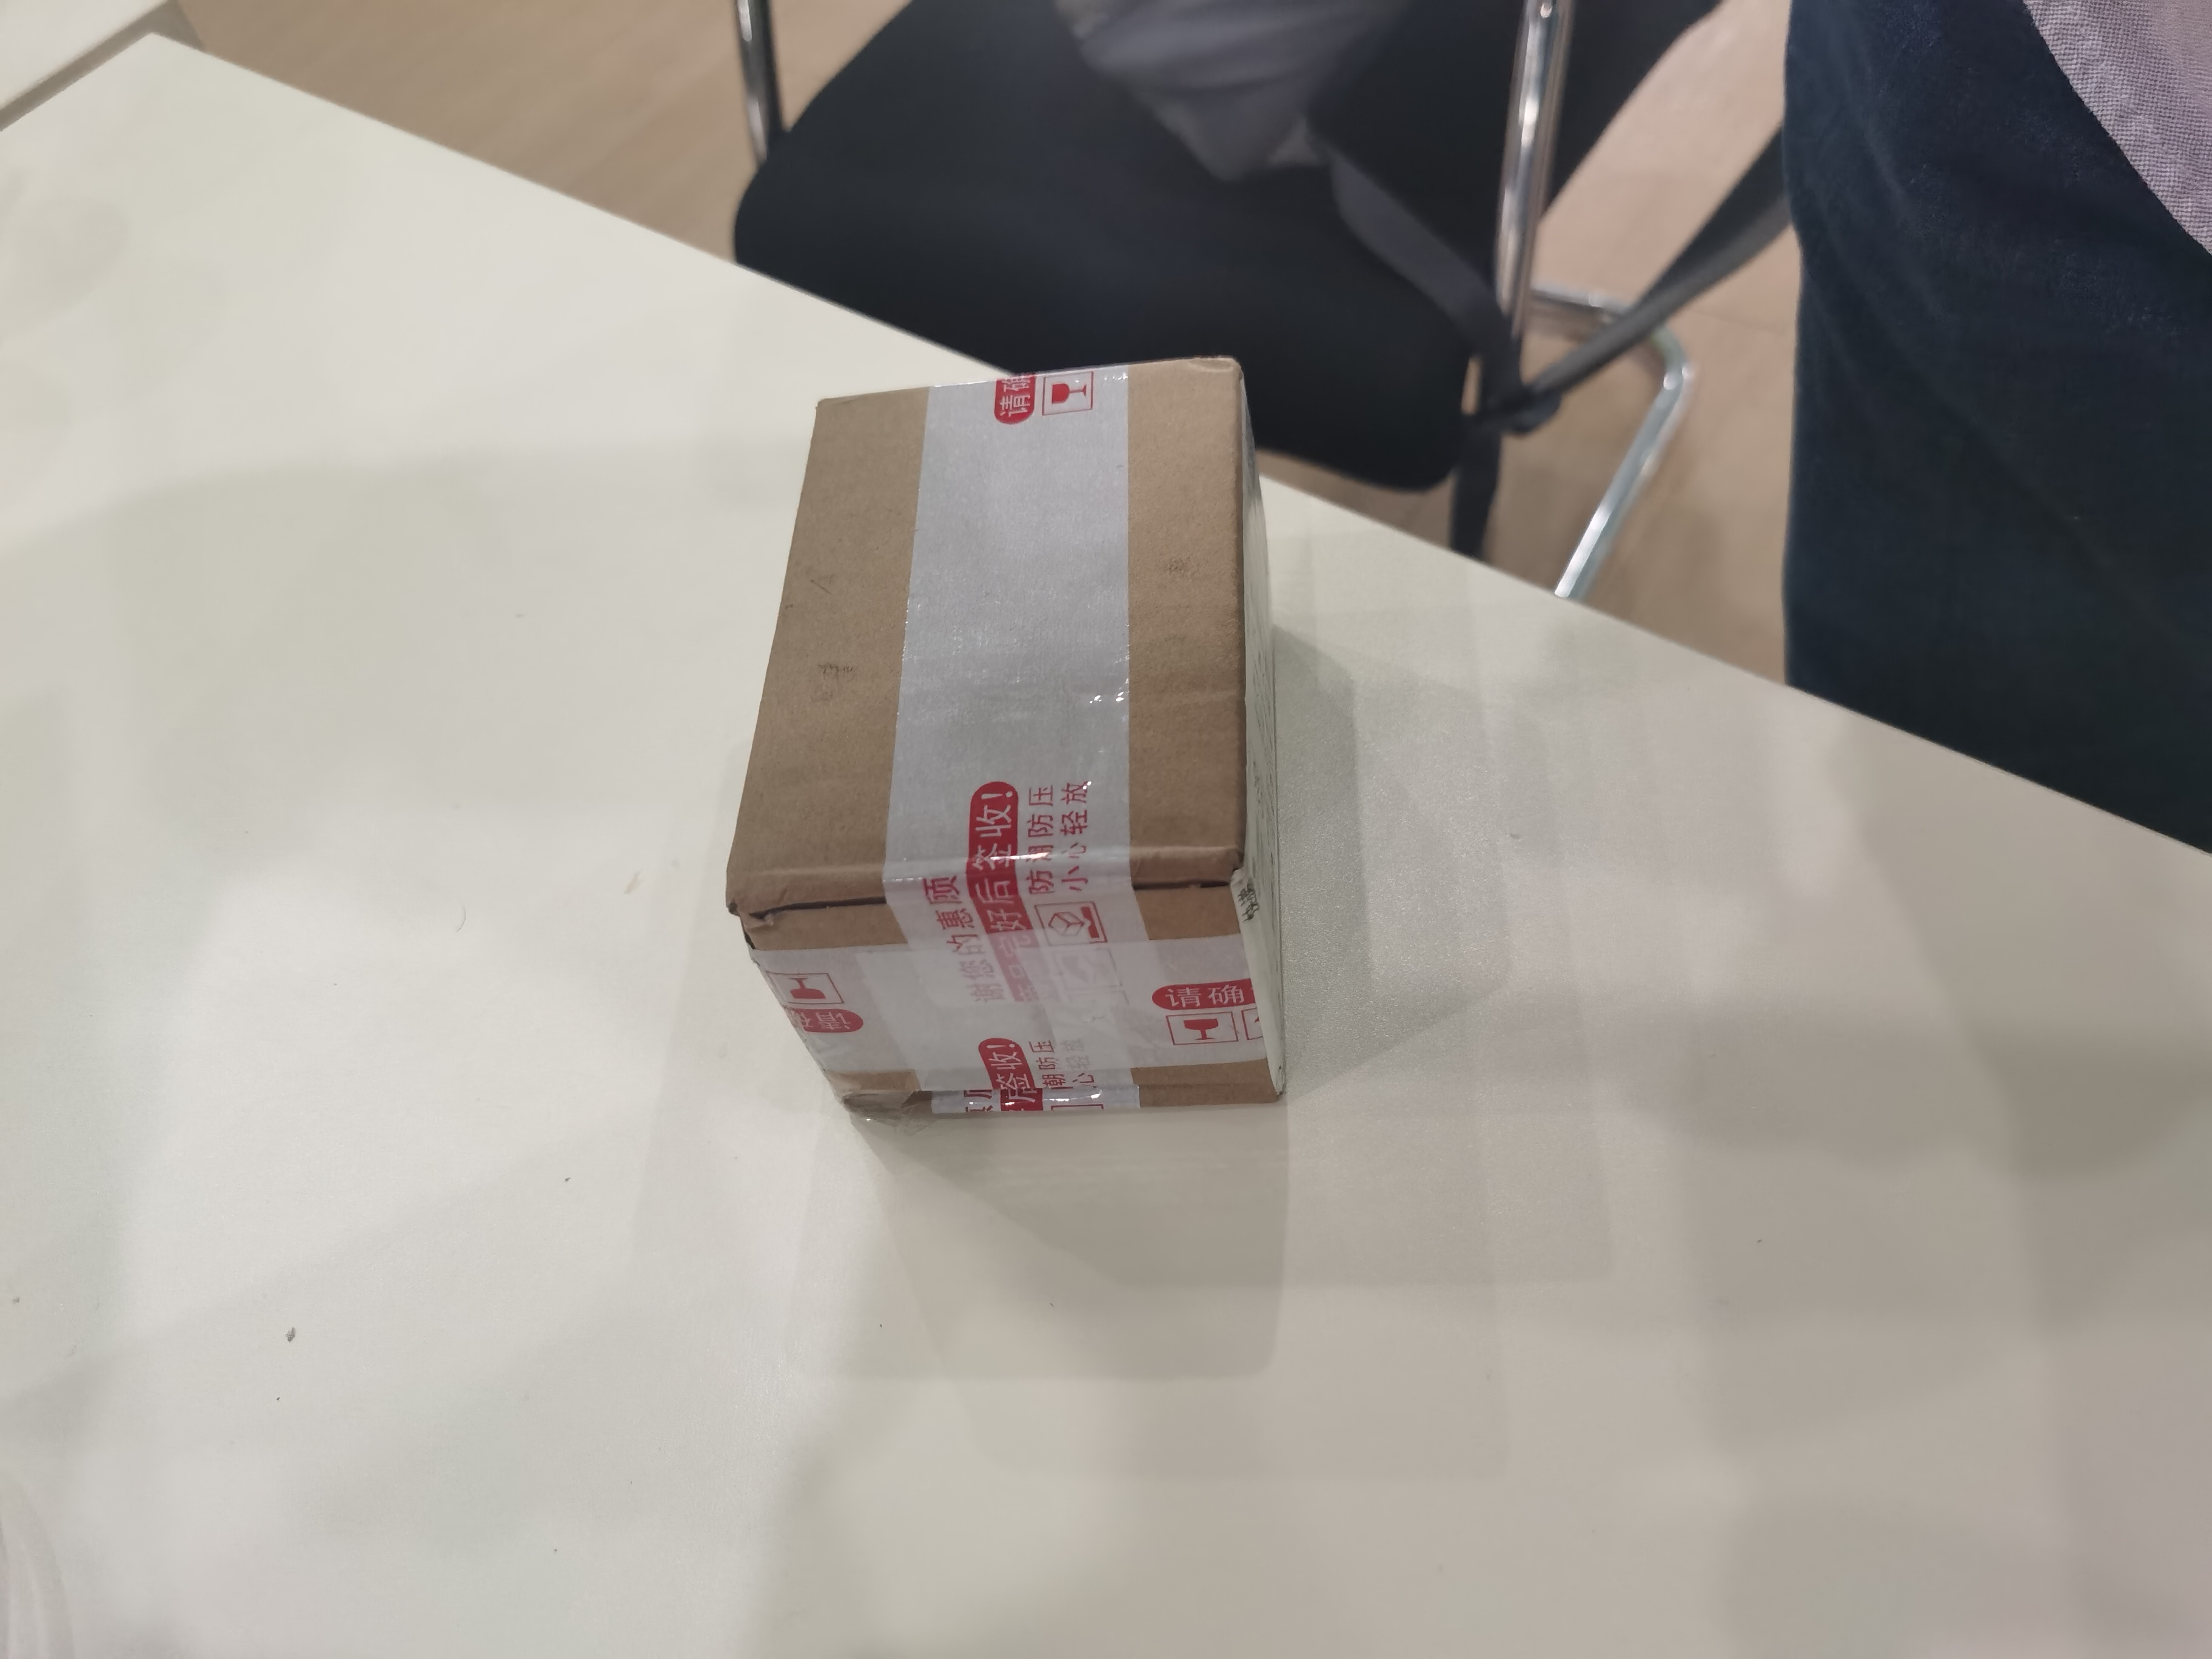box: (721, 357, 1296, 1119)
